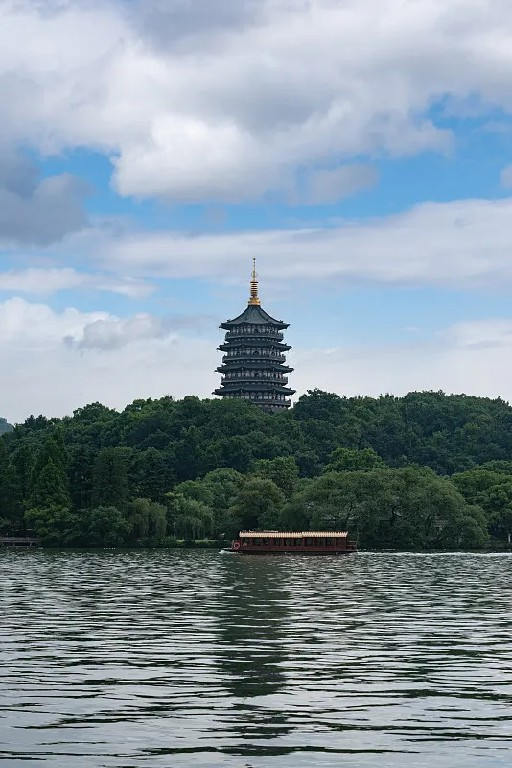Leifeng: (211, 255, 297, 413)
